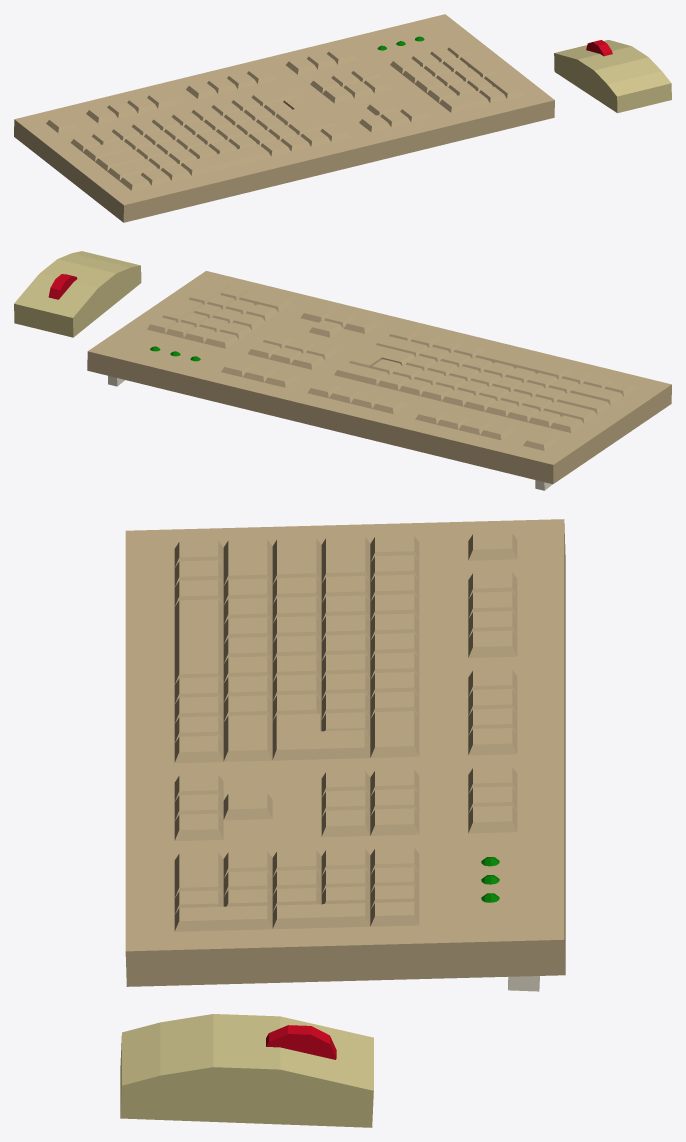
Rendered from tecladoymouse.gltf.
The picture shows the model from 3 angles, top to bottom: view 1: azimuth 30°, elevation 25°; view 2: azimuth 150°, elevation 25°; view 3: azimuth 270°, elevation 25°; orthographic projection. The views are drawn at different scales.
Parts seen in each view (by area): view 1: Cube.007; view 2: Cube.007; view 3: Cube.007.
Boxes of the visible parts, left/top/right/bottom form: Cube.007: left=14, top=14, right=671, bottom=222; Cube.007: left=14, top=251, right=671, bottom=490; Cube.007: left=120, top=519, right=565, bottom=1127.
Bounding box in the file's own units: 3.22 × 0.2325 × 1.14.
